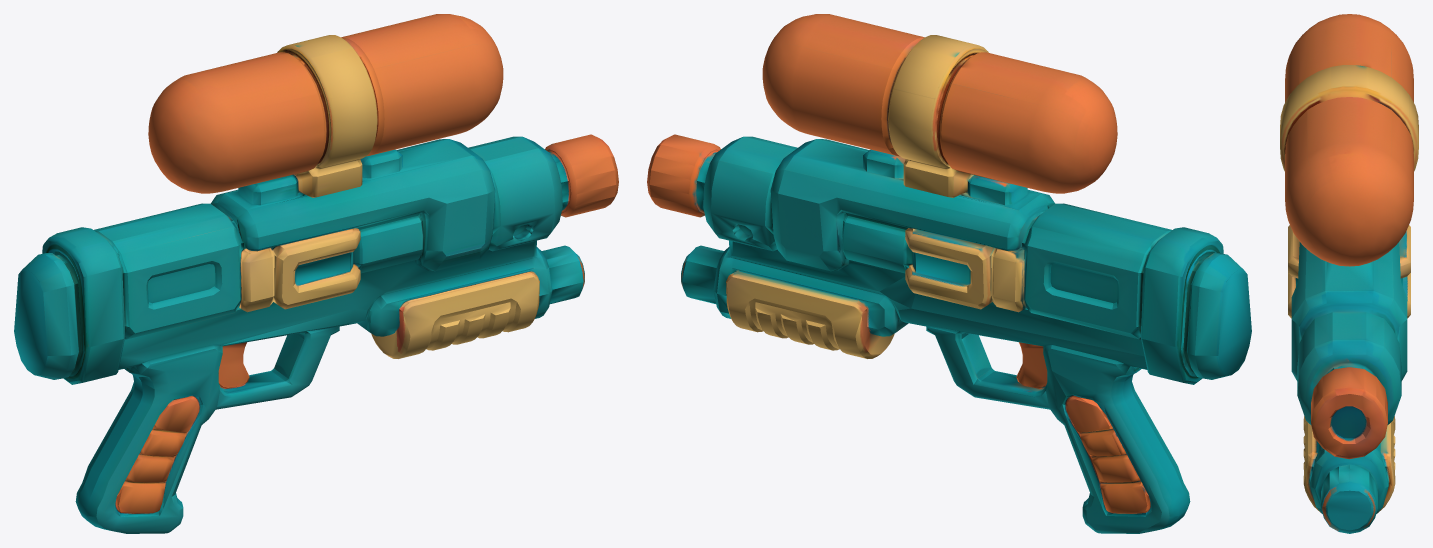
Rendered from WaterGunOne.fbx.
The picture shows the model from 3 angles, left to right: view 1: azimuth 30°, elevation 25°; view 2: azimuth 150°, elevation 25°; view 3: azimuth 270°, elevation 25°; orthographic projection. The views are drawn at different scales.
Visible parts, largest first — view 1: texture_pbr_v128; view 2: texture_pbr_v128; view 3: texture_pbr_v128.
Boxes of the visible parts, bbox=[...] form: texture_pbr_v128: bbox=[14, 14, 618, 533]; texture_pbr_v128: bbox=[647, 14, 1251, 533]; texture_pbr_v128: bbox=[1280, 14, 1418, 533].
Size of the model in its own units: 46.18 by 34.03 by 9.16.
Materials: 1 (1 with a texture image).
